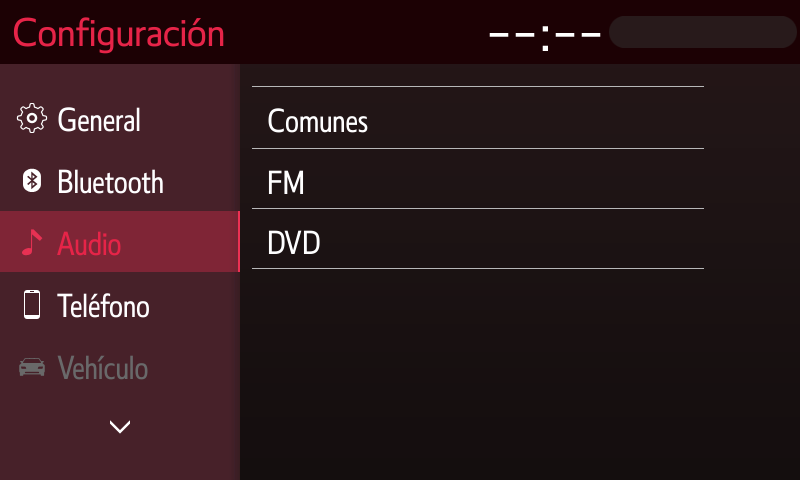touchPart: (247, 143, 708, 219), (250, 82, 709, 156), (249, 202, 706, 275), (15, 281, 163, 329), (22, 158, 166, 204), (17, 93, 152, 139), (103, 410, 156, 445)
untouchPart: (1, 206, 243, 277), (480, 6, 796, 55), (8, 7, 250, 53), (13, 347, 154, 388)
